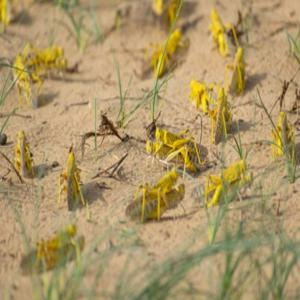locust: (25, 227, 84, 277), (128, 172, 182, 224), (11, 117, 44, 199), (59, 142, 92, 212)
